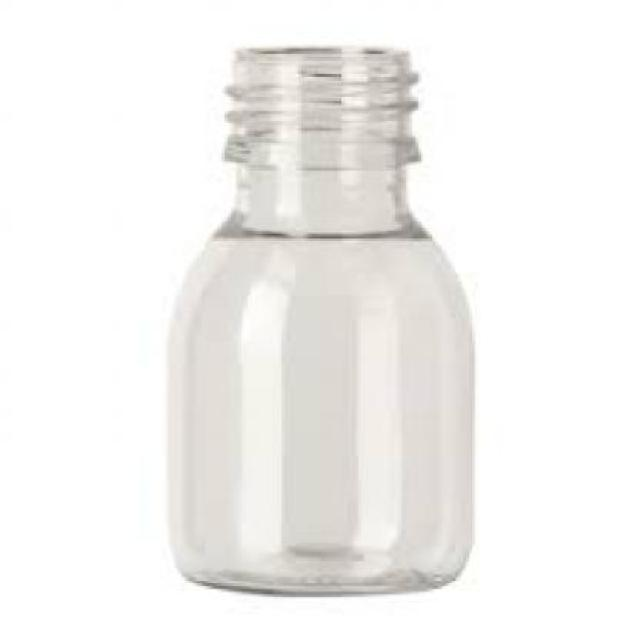kaca: (165, 43, 469, 592)
